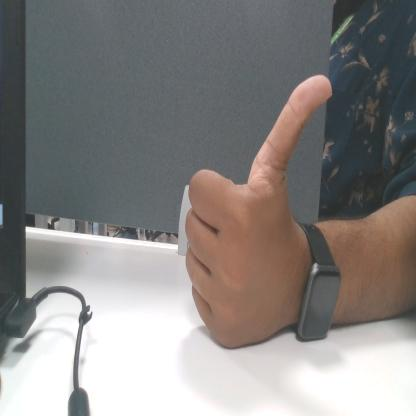Thumbs up: (182, 61, 327, 344)
